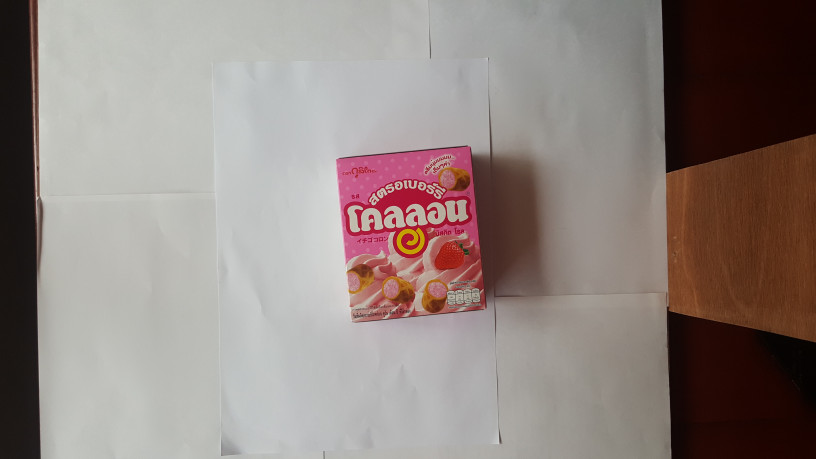collon-strawberry: (335, 143, 488, 325)
